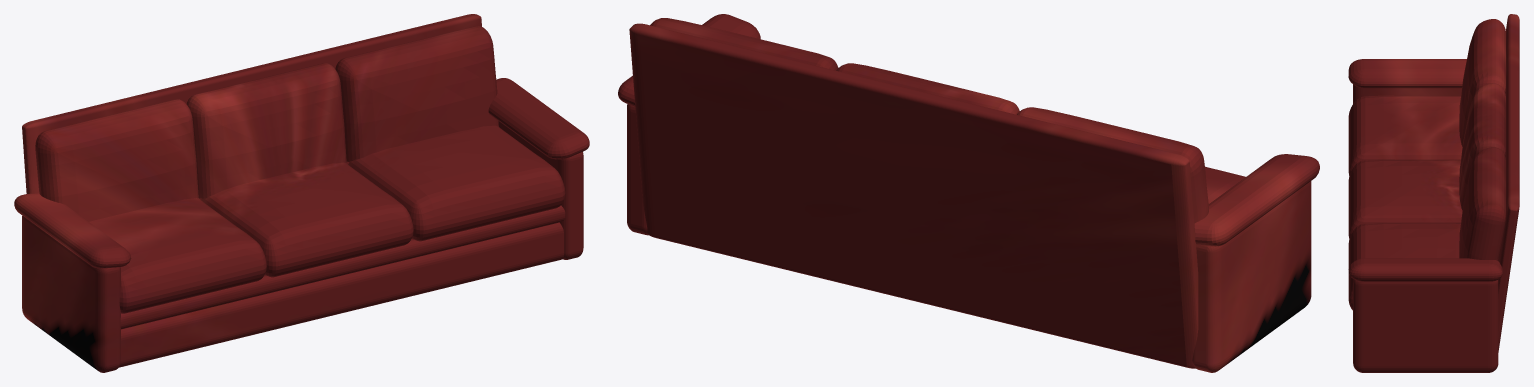
The model's file is SOFATesting2.obj.
3 renders of one model, left to right at view 1: azimuth 30°, elevation 25°; view 2: azimuth 150°, elevation 25°; view 3: azimuth 270°, elevation 25°, orthographic. The views are drawn at different scales.
Parts seen in each view (by area): view 1: canap_sofleath01; view 2: canap_sofleath01; view 3: canap_sofleath01.
Part boxes in pixels (x1,y1,x2,y2): canap_sofleath01: [14, 14, 589, 372]; canap_sofleath01: [618, 14, 1319, 372]; canap_sofleath01: [1348, 14, 1519, 372].
Bounding box in the file's own units: 36.46 × 12.84 × 12.34.
